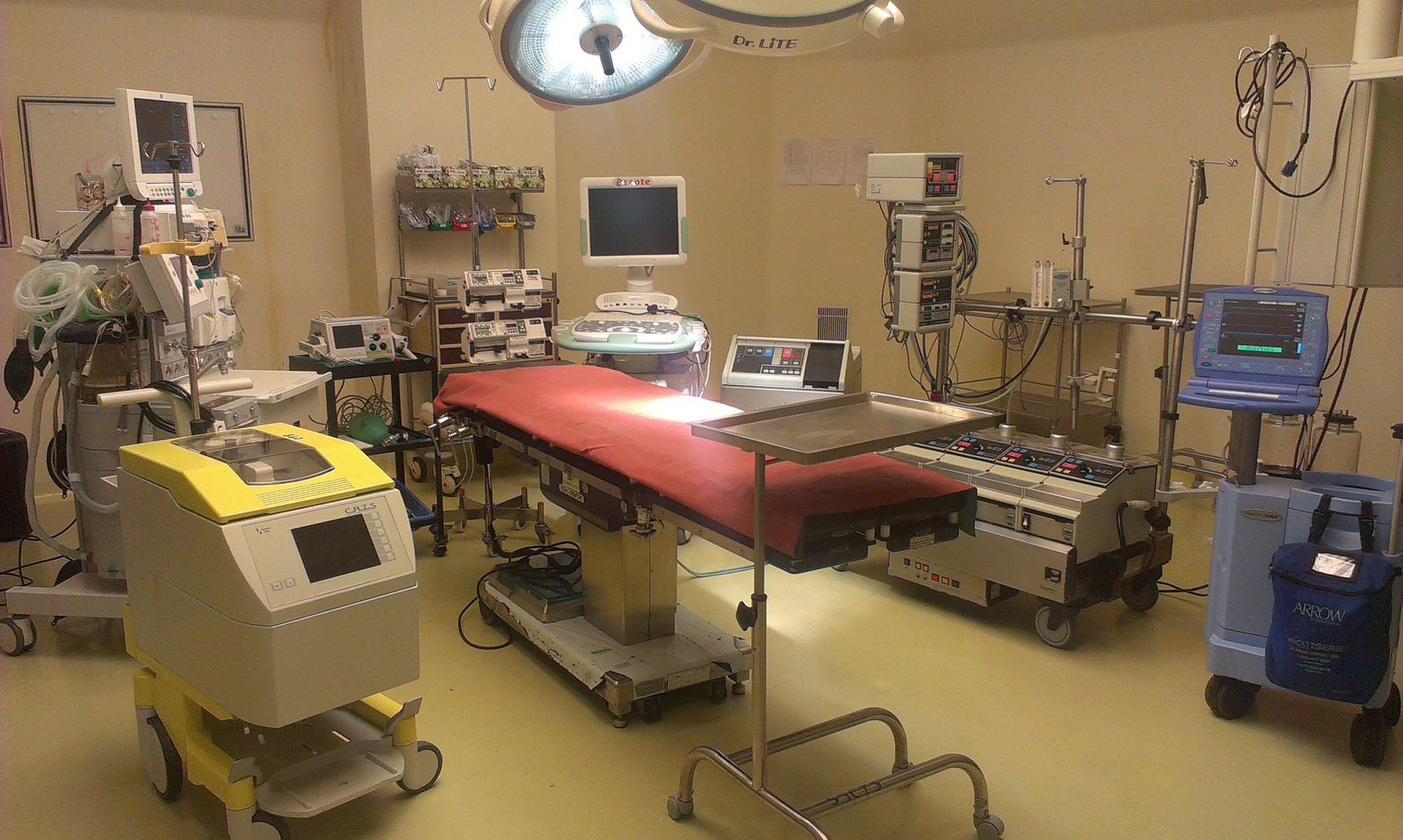Monitor: (101, 72, 218, 221), (569, 166, 701, 290)
Saline Stand: (124, 108, 243, 431)
bed: (433, 358, 1183, 672)
tools_table: (674, 364, 1013, 840)
